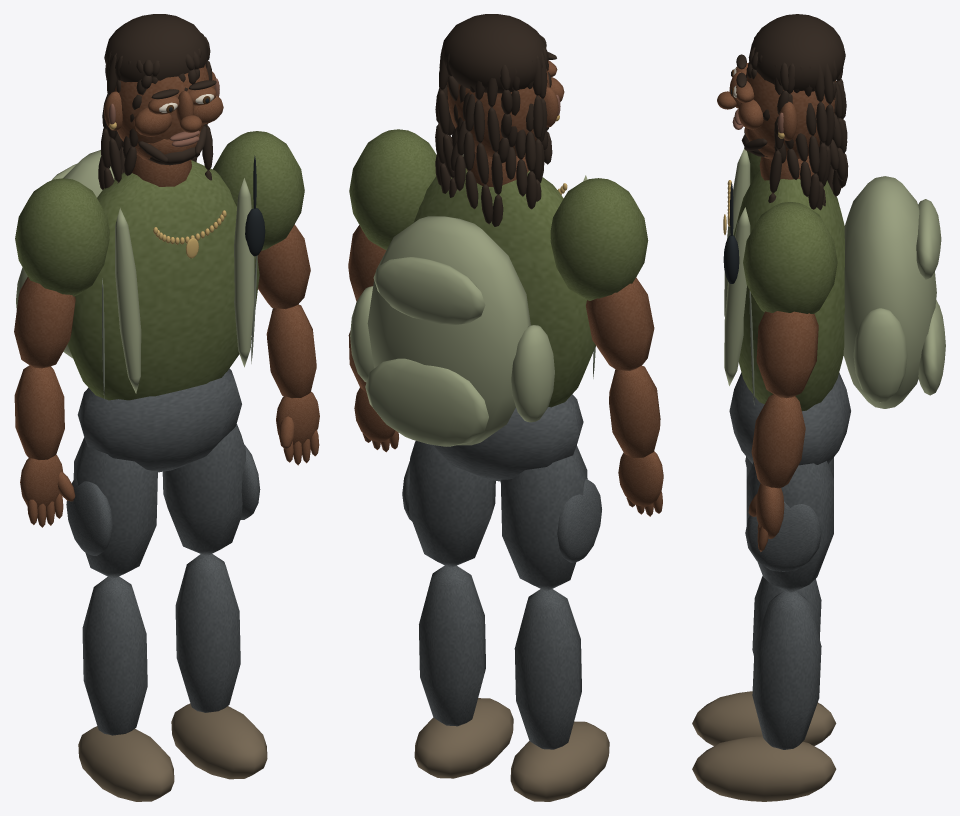
Rendered from ronniebaby.glb.
The picture shows the model from 3 angles, left to right: view 1: azimuth 30°, elevation 25°; view 2: azimuth 150°, elevation 25°; view 3: azimuth 270°, elevation 25°; orthographic projection. The views are drawn at different scales.
Visible parts, largest first — view 1: Gray utility trousers, Olive shirt / woven texture, Warm skin with embedded albedo, Weathered brown boots, Dark brown modeled locs, Olive tactical canvas, Pupil, Brushed brass jewelry, Lip tone, Canvas strap; view 2: Gray utility trousers, Olive tactical canvas, Olive shirt / woven texture, Dark brown modeled locs, Warm skin with embedded albedo, Weathered brown boots; view 3: Olive tactical canvas, Gray utility trousers, Olive shirt / woven texture, Warm skin with embedded albedo, Dark brown modeled locs, Weathered brown boots, Pupil.
Part boxes in pixels (<box>): Gray utility trousers: <box>66,368,260,735</box>; Olive shirt / woven texture: <box>15,131,304,400</box>; Warm skin with embedded albedo: <box>14,64,319,527</box>; Weathered brown boots: <box>78,703,267,801</box>; Dark brown modeled locs: <box>98,14,216,189</box>; Olive tactical canvas: <box>16,150,254,393</box>; Pupil: <box>169,98,265,256</box>; Brushed brass jewelry: <box>109,122,226,258</box>; Lip tone: <box>108,78,219,147</box>; Canvas strap: <box>102,255,257,398</box>; Gray utility trousers: <box>402,394,601,749</box>; Olive tactical canvas: <box>350,155,587,446</box>; Olive shirt / woven texture: <box>349,129,648,407</box>; Dark brown modeled locs: <box>435,14,556,226</box>; Warm skin with embedded albedo: <box>348,60,663,516</box>; Weathered brown boots: <box>414,698,609,801</box>; Olive tactical canvas: <box>724,148,945,408</box>; Gray utility trousers: <box>729,372,850,749</box>; Olive shirt / woven texture: <box>727,151,844,411</box>; Warm skin with embedded albedo: <box>717,63,836,551</box>; Dark brown modeled locs: <box>736,14,848,210</box>; Weathered brown boots: <box>692,691,836,801</box>; Pupil: <box>723,71,739,283</box>.
Bounding box in the file's own units: 0.77 × 1.85 × 0.563.
Materials: 12 (3 with a texture image).
